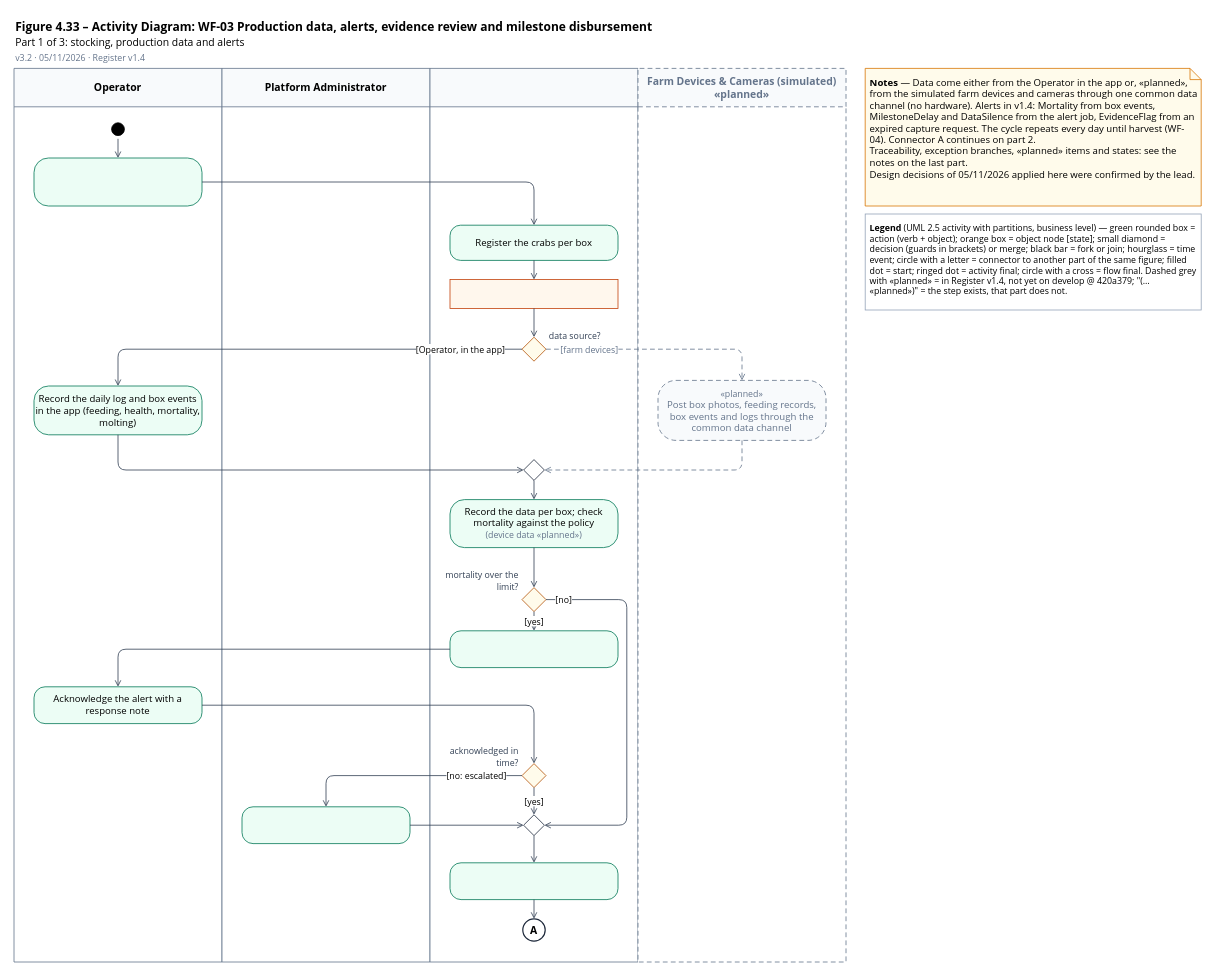
Some shapes in this 1215 by 976 pixel diagram are drawn without their labels. Here are the shapes that lost their labels. From the top down, the box of each, then its label:
(33, 157, 202, 206): Stock one crab per box in the funded box rows (box rows «planned»)
(449, 279, 618, 308): Batch [InProduction]
(429, 68, 638, 962): CrabShare System
(449, 630, 618, 668): Raise an alert with a deadline to acknowledge
(241, 806, 410, 844): Monitor and resolve the escalated alert
(449, 862, 618, 900): Issue a random capture request (one box, time window)
